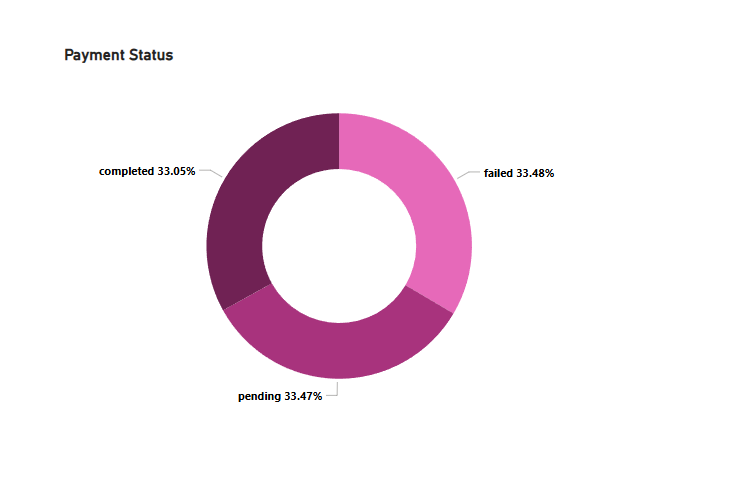

The page's visual inventory and layout, read from the dashboard file:
{"tool":"powerbi","page":{"name":"Payment Status","canvas":[1280,720],"ordinal":2},"visuals":[{"type":"donutChart","title":"Payment Status","fields":{"Category":["payments.payment_status"],"Y":["Sum(payments.payment_amount)"]},"box":[396.7,152.2,604,414.5],"z":0}]}

Visuals, with their boxes on the page's 1280x720 design canvas (x1, y1, x2, y2). These are canvas units, not pixel positions in the 741x480 screenshot, which may show the page scaled, cropped or inside an application window:
"Payment Status" donutChart: {"left": 397, "top": 152, "right": 1001, "bottom": 567}
